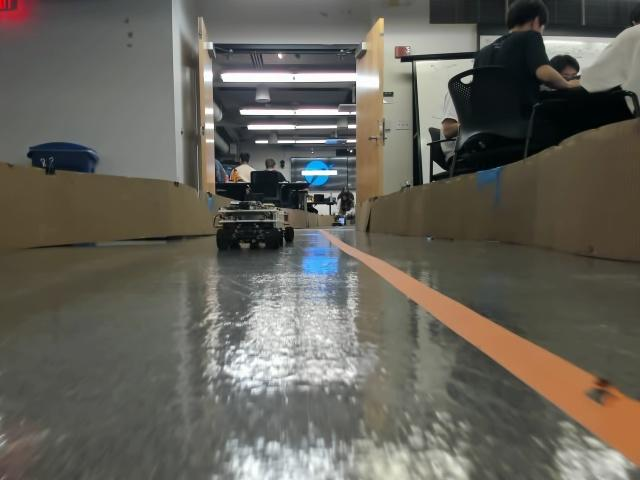Car: (216, 194, 278, 250)
